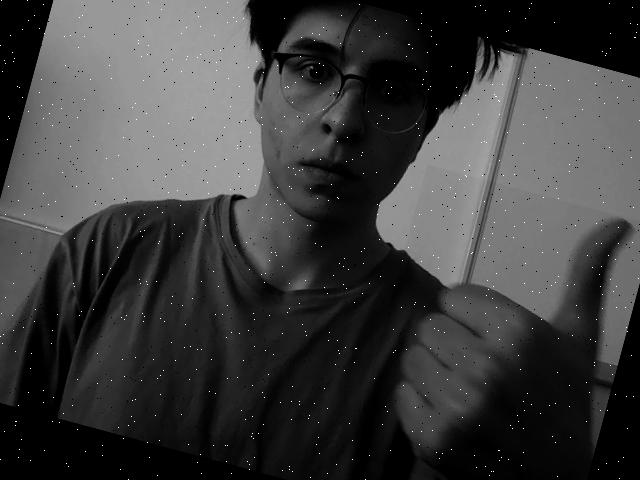good: (349, 164, 640, 480)
